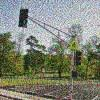traffic lights: (18, 8, 29, 29)
